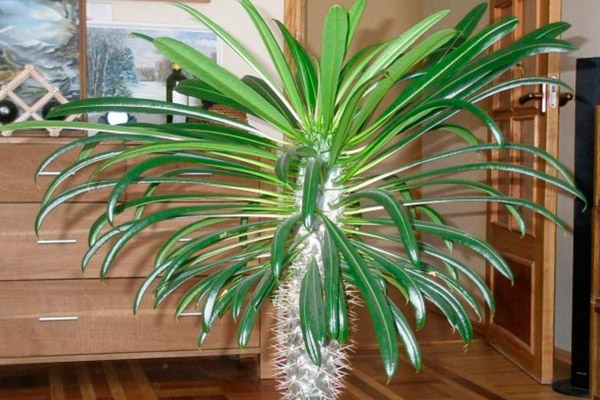Pachypodium lamerei Drake: (173, 45, 483, 390)
